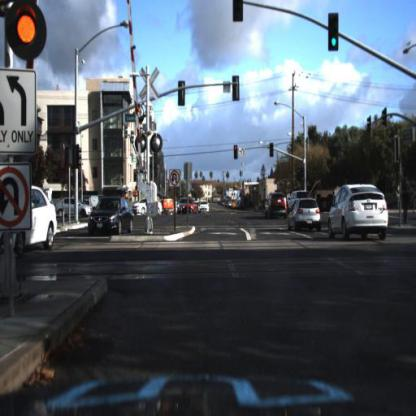car: (1, 185, 61, 252), (328, 183, 392, 243), (83, 197, 138, 241), (289, 195, 323, 231), (54, 196, 95, 221), (263, 189, 289, 220), (130, 197, 163, 220), (182, 199, 199, 218), (289, 188, 305, 203), (199, 199, 211, 217)
trafficLight: (329, 13, 339, 51), (269, 141, 276, 158), (234, 141, 239, 162)
trafficLight-Green: (299, 163, 307, 183)
trafficLight-Red: (8, 4, 53, 69)
